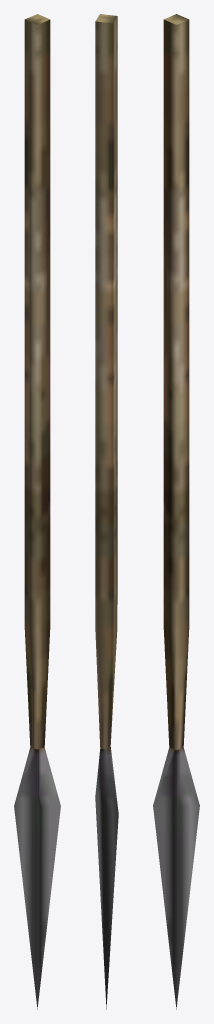
The model's file is jav_loaded.dae.
3 views of the same model, side by side, from view 1: azimuth 90°, elevation 25°; view 2: azimuth 210°, elevation 25°; view 3: azimuth 270°, elevation 25° (orthographic).
Visible parts, largest first — view 1: jav_rev; view 2: jav_rev; view 3: jav_rev.
Part boxes in pixels (x1,y1,x2,y2): jav_rev: (14,14,60,1009); jav_rev: (95,14,118,1009); jav_rev: (153,14,199,1009).
Bounding box in the file's own units: 0.0732 × 3.1 × 0.1332.
